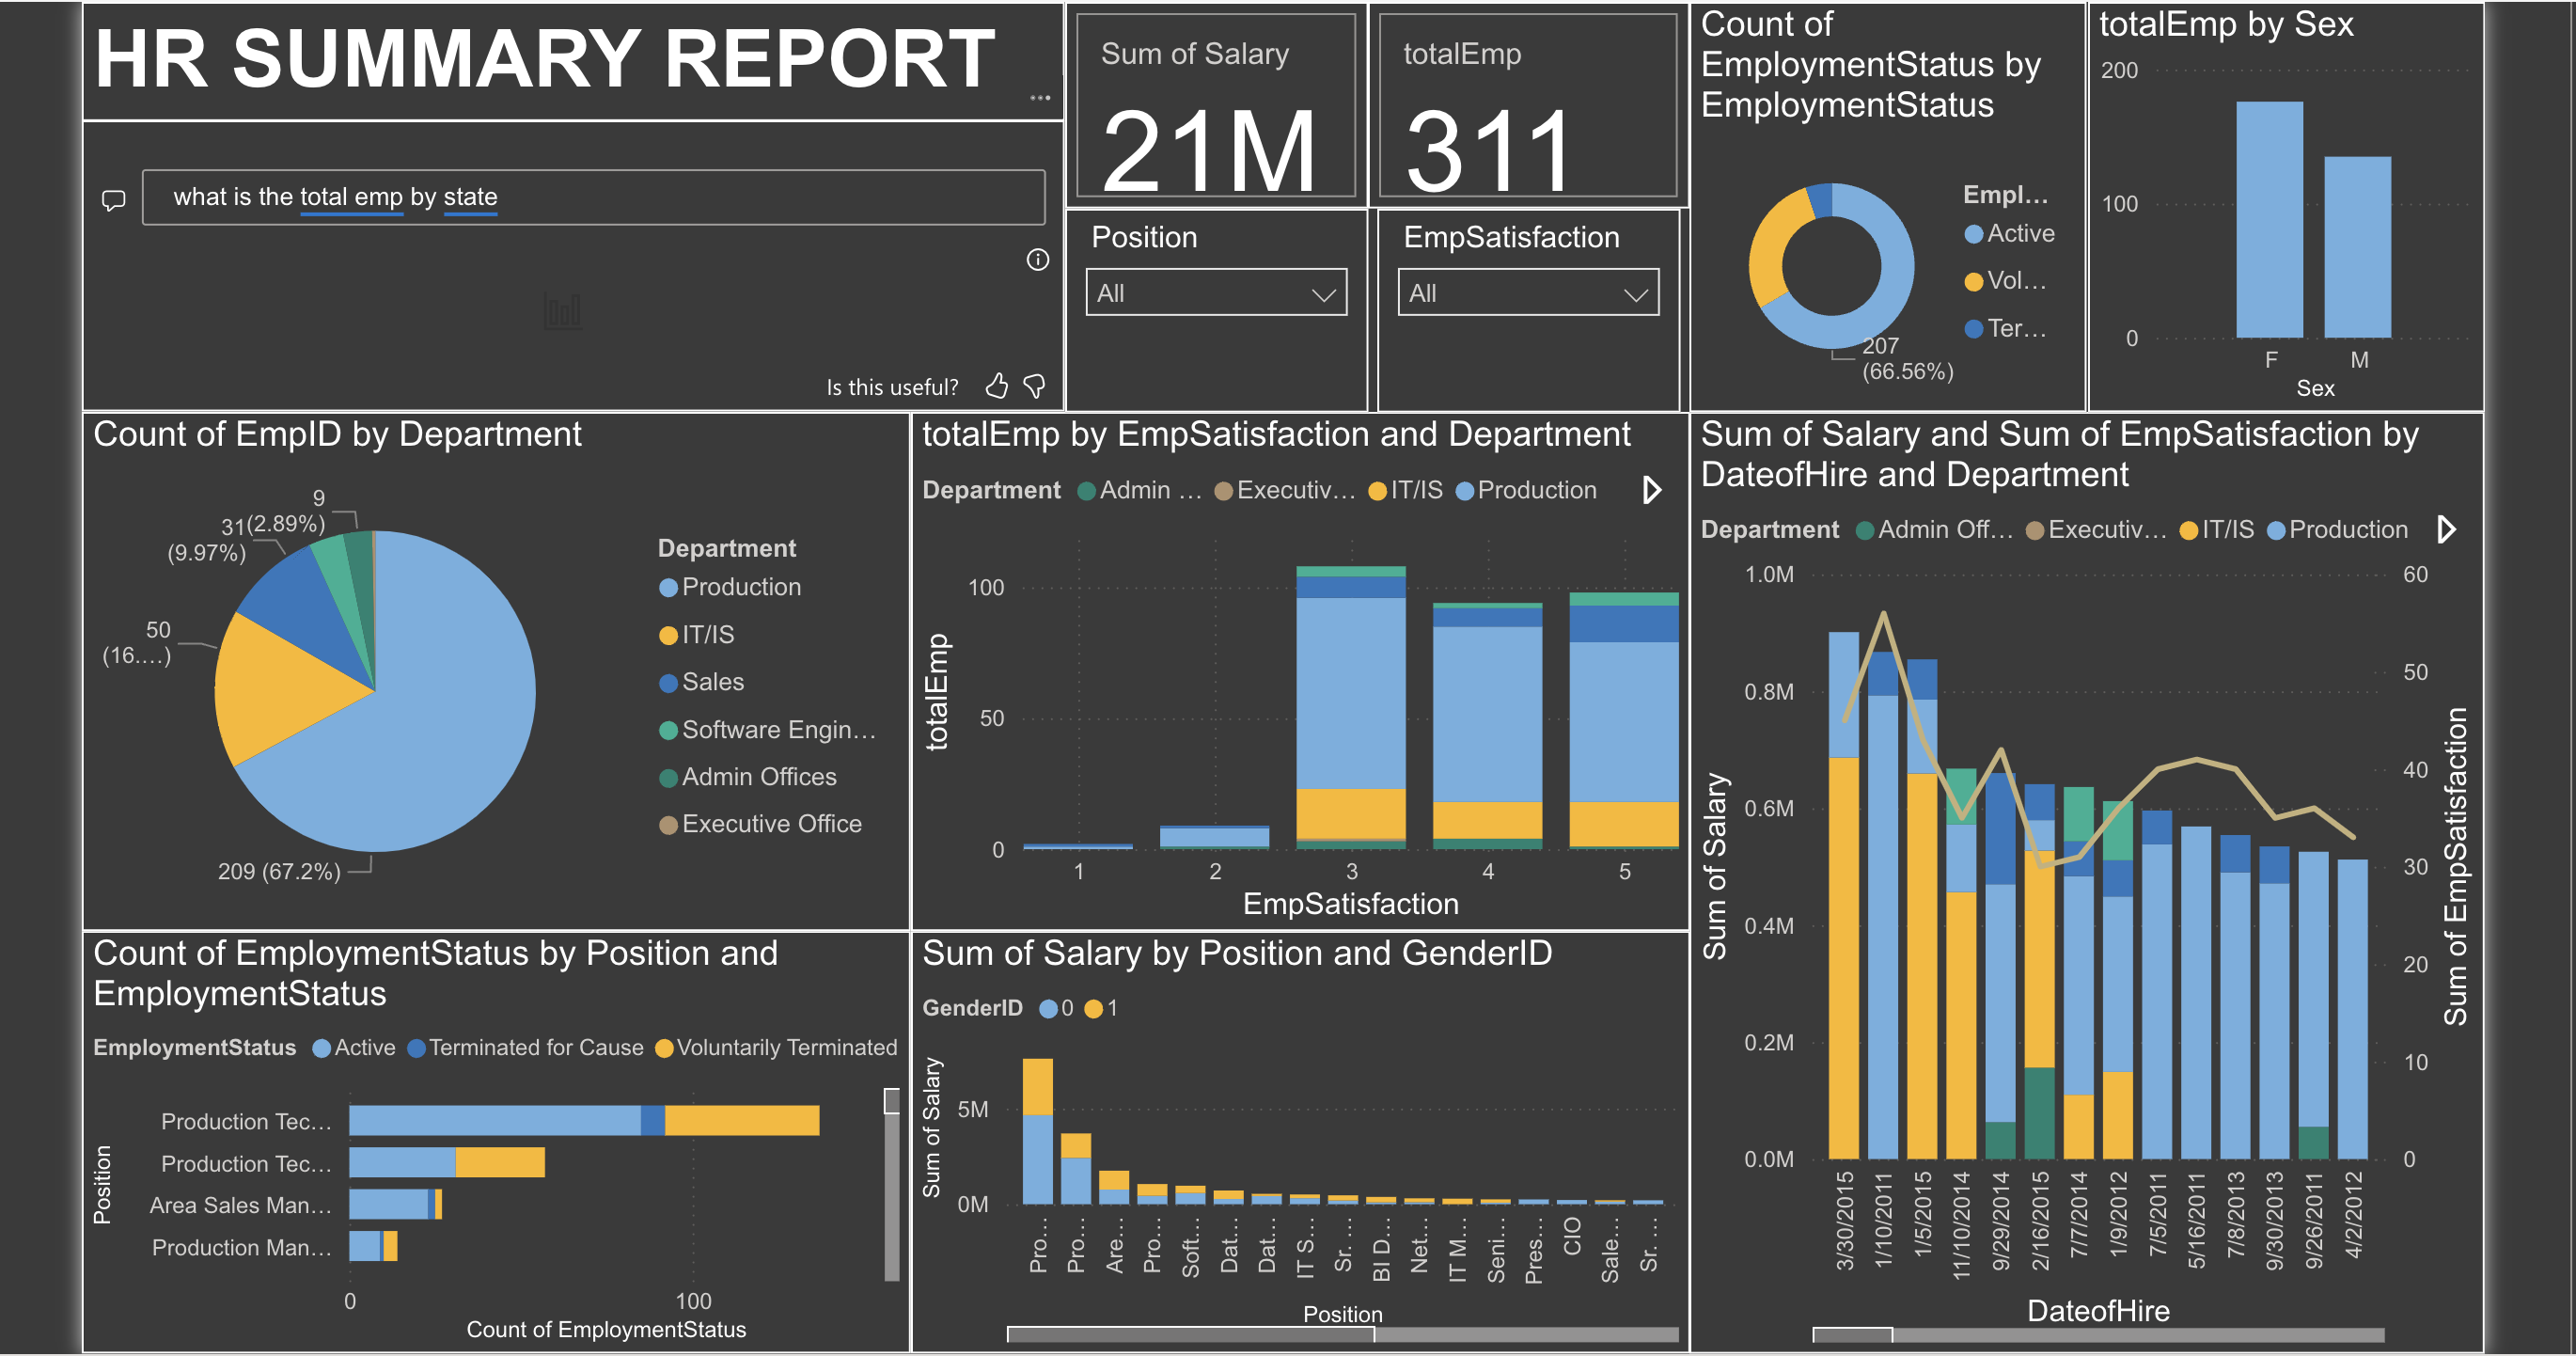

The page's visual inventory and layout, read from the dashboard file:
{"tool":"powerbi","page":{"name":"Page 1","canvas":[1280,720],"ordinal":0},"visuals":[{"type":"barChart","fields":{"Category":["HRDataset.Position"],"Series":["HRDataset.EmploymentStatus"],"Y":["CountNonNull(HRDataset.EmploymentStatus)"]},"box":[0,495,441.7,225],"z":0},{"type":"columnChart","fields":{"Y":["Sum(HRDataset.Salary)"],"Category":["HRDataset.Position"],"Series":["HRDataset.GenderID"]},"box":[441.7,495,415,225],"z":1000},{"type":"lineStackedColumnComboChart","fields":{"Y":["Sum(HRDataset.Salary)"],"Category":["HRDataset.DateofHire"],"Series":["HRDataset.Department"],"Y2":["Sum(HRDataset.EmpSatisfaction)"]},"box":[856.7,218.3,423.3,501.7],"z":2000},{"type":"pieChart","fields":{"Category":["HRDataset.Department"],"Y":["CountNonNull(HRDataset.EmpID)"]},"box":[0,218.3,441.7,276.7],"z":3000},{"type":"columnChart","fields":{"Y":["HRDataset.totalEmp"],"Category":["HRDataset.EmpSatisfaction"],"Series":["HRDataset.Department"]},"box":[441.7,218.3,415,276.7],"z":4000},{"type":"textbox","box":[0,0,523.3,63.3],"z":5000},{"type":"cardVisual","fields":{"Data":["Sum(HRDataset.Salary)"]},"box":[523.3,0,161.7,110],"z":6000},{"type":"cardVisual","fields":{"Data":["HRDataset.totalEmp"]},"box":[685,0,171.7,110],"z":7000},{"type":"donutChart","fields":{"Category":["HRDataset.EmploymentStatus"],"Y":["CountNonNull(HRDataset.EmploymentStatus)"]},"box":[856.7,0,211.7,218.3],"z":8000},{"type":"columnChart","fields":{"Y":["HRDataset.totalEmp"],"Category":["HRDataset.Sex"]},"box":[1068.3,0,211.7,218.3],"z":8001},{"type":"slicer","fields":{"Values":["HRDataset.Position"]},"box":[523.3,110,161.7,108.3],"z":8002},{"type":"slicer","fields":{"Values":["HRDataset.EmpSatisfaction"]},"box":[690,110,161.7,108.3],"z":8003},{"type":"qnaVisual","box":[0,63.3,523.3,155],"z":8004}]}

Visuals, with their boxes in screenshot pixels (x1, y1, x2, y2):
barChart - HRDataset.Position x HRDataset.EmploymentStatus: x1=94 y1=919 x2=914 y2=1336
columnChart - Sum(HRDataset.Salary) x HRDataset.Position: x1=914 y1=919 x2=1684 y2=1336
lineStackedColumnComboChart - Sum(HRDataset.Salary) x HRDataset.DateofHire: x1=1684 y1=405 x2=2470 y2=1336
pieChart - HRDataset.Department x CountNonNull(HRDataset.EmpID): x1=94 y1=405 x2=914 y2=919
columnChart - HRDataset.totalEmp x HRDataset.EmpSatisfaction: x1=914 y1=405 x2=1684 y2=919
textbox: x1=94 y1=0 x2=1065 y2=118
cardVisual - Sum(HRDataset.Salary): x1=1065 y1=0 x2=1365 y2=204
cardVisual - HRDataset.totalEmp: x1=1365 y1=0 x2=1684 y2=204
donutChart - HRDataset.EmploymentStatus x CountNonNull(HRDataset.EmploymentStatus): x1=1684 y1=0 x2=2077 y2=405
columnChart - HRDataset.totalEmp x HRDataset.Sex: x1=2077 y1=0 x2=2470 y2=405
slicer - HRDataset.Position: x1=1065 y1=204 x2=1365 y2=405
slicer - HRDataset.EmpSatisfaction: x1=1374 y1=204 x2=1674 y2=405
qnaVisual: x1=94 y1=118 x2=1065 y2=405
